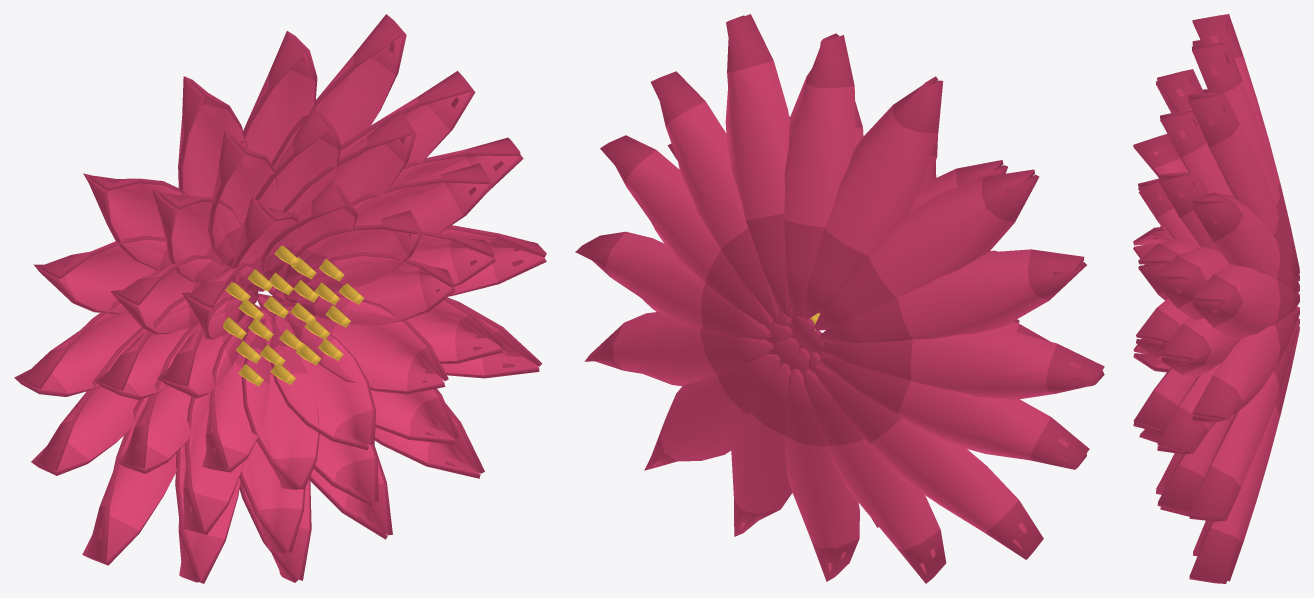
Rendered from garden-zinnia-bloom-head-0.glb.
The picture shows the model from 3 angles, left to right: view 1: azimuth 30°, elevation 25°; view 2: azimuth 150°, elevation 25°; view 3: azimuth 270°, elevation 25°; orthographic projection. The views are drawn at different scales.
Visible parts, largest first — view 1: zinnia-bloom-head-0; view 2: zinnia-bloom-head-0; view 3: zinnia-bloom-head-0.
Boxes of the visible parts, bbox=[...] form: zinnia-bloom-head-0: bbox=[14, 14, 546, 583]; zinnia-bloom-head-0: bbox=[575, 14, 1104, 583]; zinnia-bloom-head-0: bbox=[1133, 14, 1299, 583].
Size of the model in its own units: 0.1804 by 0.1798 by 0.0522.
